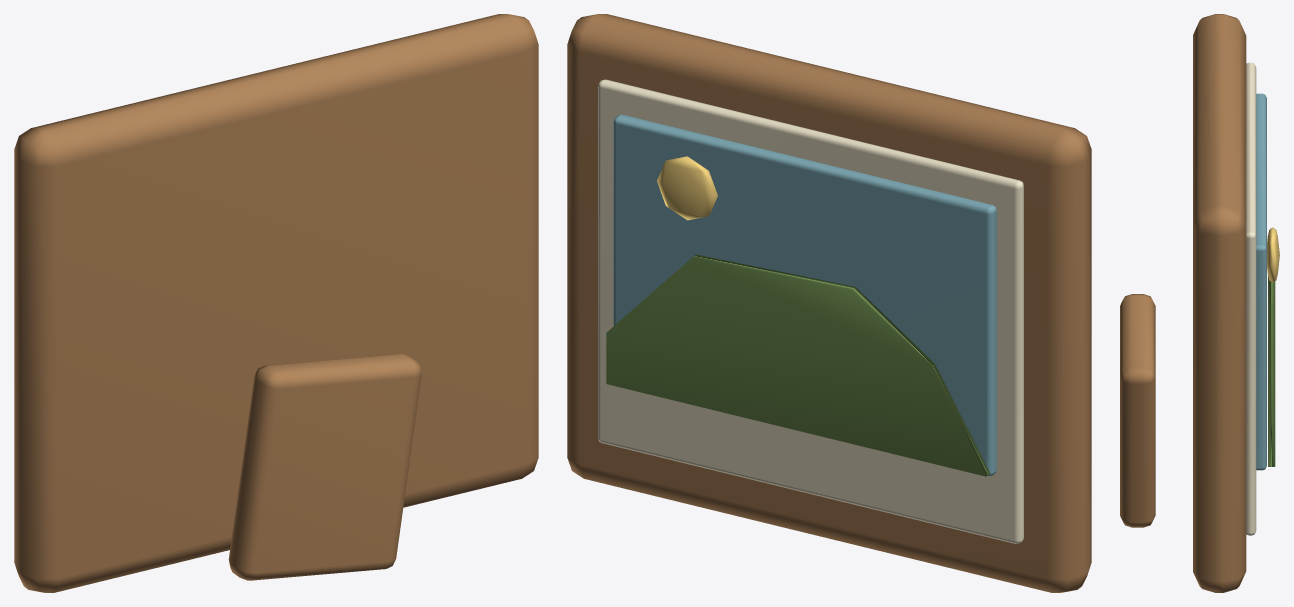
File: quest_photo_frame.glb
The picture shows the model from 3 angles, left to right: view 1: azimuth 30°, elevation 25°; view 2: azimuth 150°, elevation 25°; view 3: azimuth 270°, elevation 25°; orthographic projection. The views are drawn at different scales.
Bounding box in the file's own units: 0.42 × 0.3673 × 0.135.
